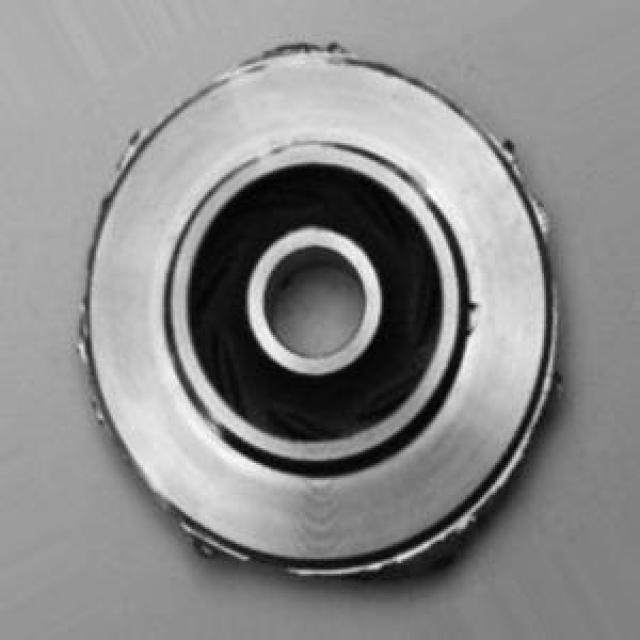Defect: (282, 36, 329, 64)
